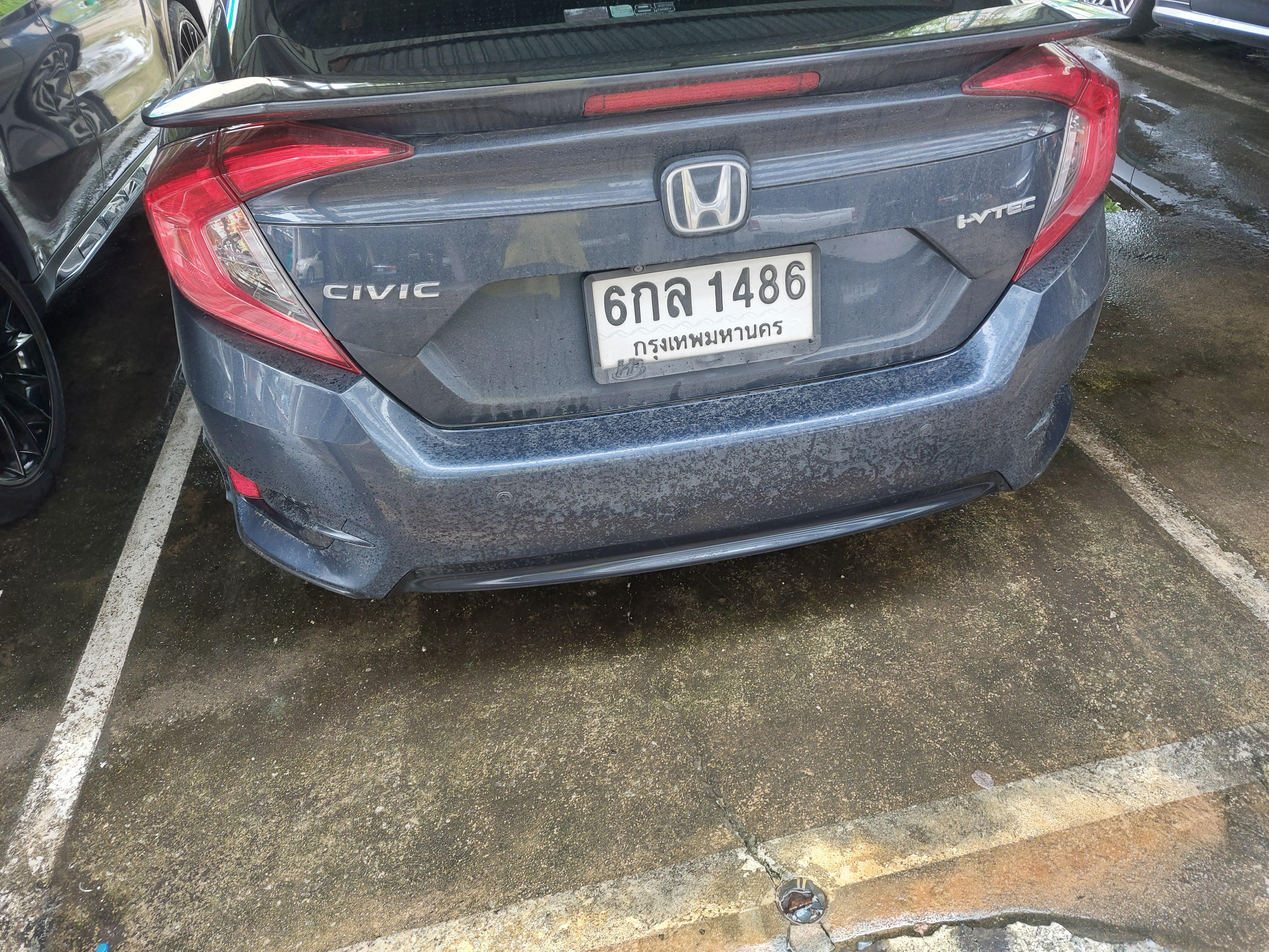license-plate: (580, 242, 825, 389)
